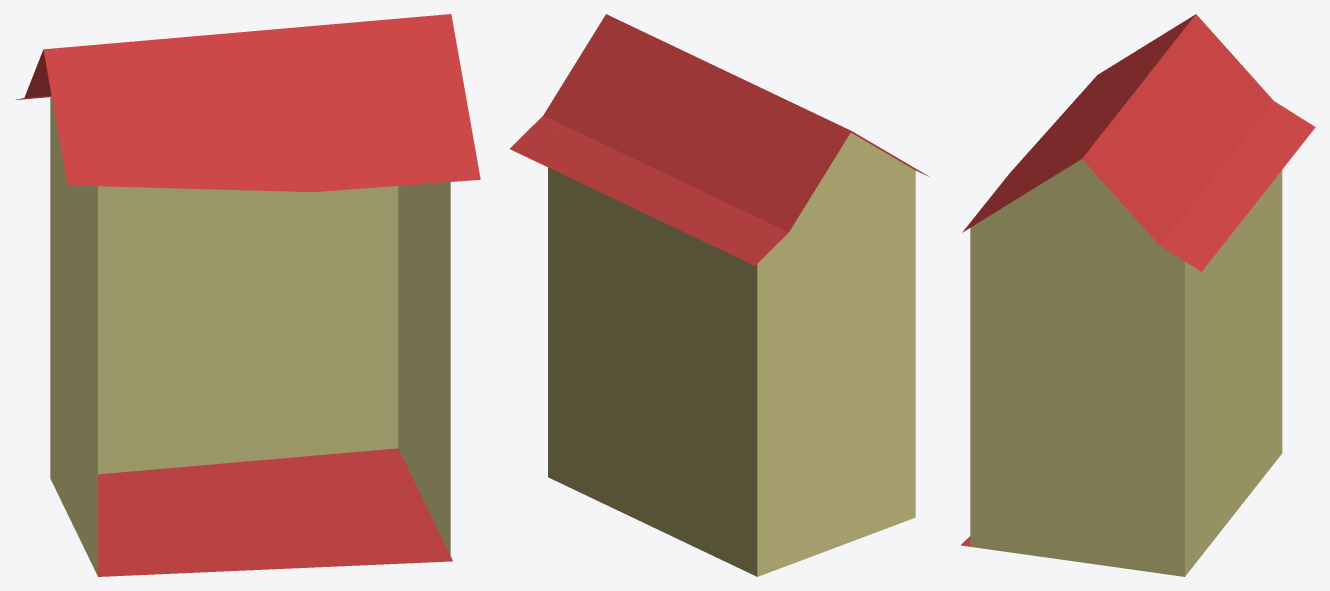
The picture shows the model from 3 angles, left to right: view 1: azimuth 30°, elevation 25°; view 2: azimuth 150°, elevation 25°; view 3: azimuth 270°, elevation 25°; orthographic projection. The views are drawn at different scales.
Bounding box in the file's own units: 11.73 × 10.04 × 12.95.
